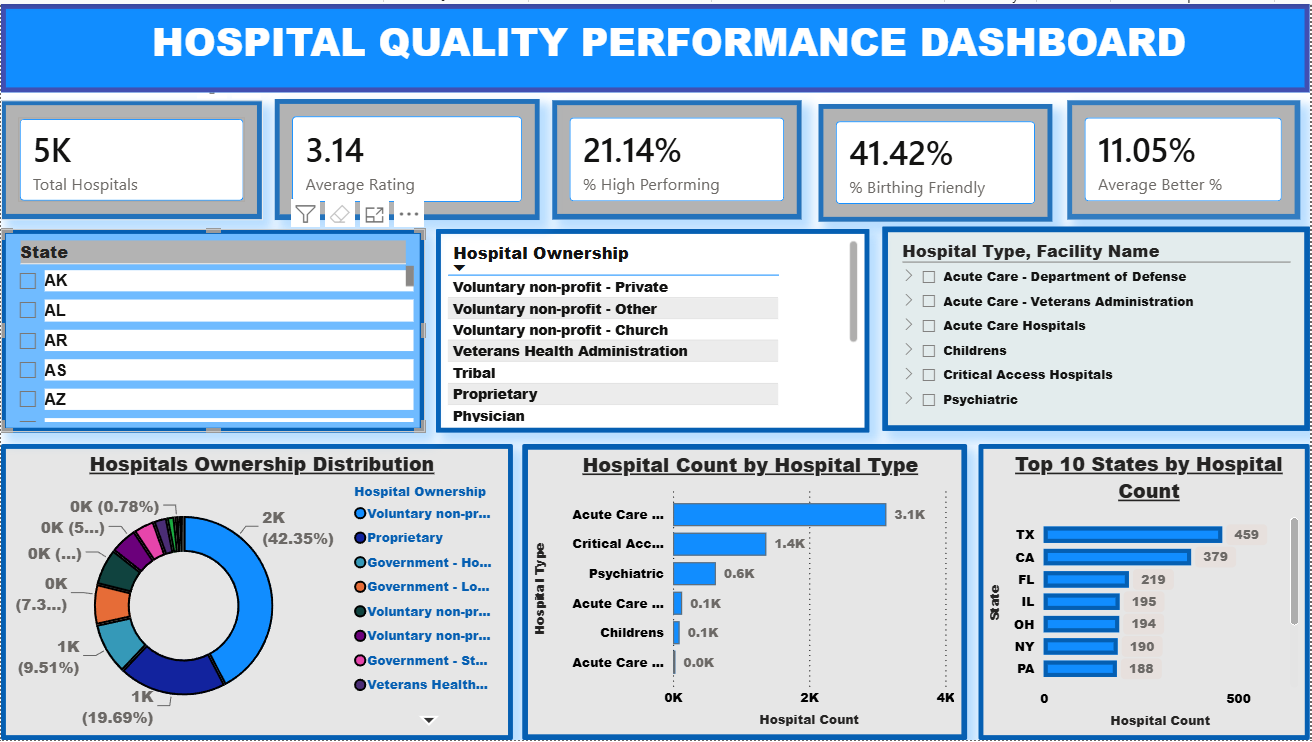

Layout of this report page (visuals, bound fields, positions):
{"tool":"powerbi","page":{"name":"Overview","canvas":[1280,720],"ordinal":0},"visuals":[{"type":"cardVisual","fields":{"Data":["Dim_County.Total Hospitals"]},"box":[0,94.7,255.2,116.6],"z":0},{"type":"cardVisual","fields":{"Data":["Dim_County.% High Performing"]},"box":[539.3,94.7,244.3,116.6],"z":1000},{"type":"cardVisual","fields":{"Data":["Dim_County.Average Better %"]},"box":[1042.9,94.7,227.8,116.6],"z":2000},{"type":"cardVisual","fields":{"Data":["Dim_County.% Birthing Friendly"]},"box":[800,97.4,229.2,115.3],"z":3000},{"type":"slicer","fields":{"Values":["Dim_State.State"]},"box":[0,219.6,414.4,199],"z":4000},{"type":"slicer","fields":{"Values":["Dim_HospitalType.Hospital Type","Hospital_General_Information.Facility Name"]},"box":[861.8,218.2,418.5,200.3],"z":5000},{"type":"tableEx","fields":{"Values":["Dim_Ownership.Hospital Ownership"]},"box":[425.4,219.6,424,199],"z":6000},{"type":"cardVisual","fields":{"Data":["Dim_County.Average Rating"]},"box":[267.6,93.3,259.3,118],"z":7000},{"type":"textbox","box":[0,0,1280.2,86],"z":8000},{"type":"textbox","box":[0,497,164,223],"z":9000},{"type":"textbox","box":[0,0,1280.2,86],"z":10000},{"type":"donutChart","title":"Hospitals Ownership Distribution","fields":{"Category":["Dim_Ownership.Hospital Ownership"],"Y":["Dim_County.Hospital Count"]},"box":[0,430.9,500.9,289.5],"z":11000},{"type":"clusteredBarChart","title":"Hospital Count  by Hospital Type","fields":{"Y":["Dim_County.Hospital Count"],"Category":["Dim_HospitalType.Hospital Type"]},"box":[510.5,430.9,435,289.5],"z":12000},{"type":"clusteredBarChart","title":"Top 10 States by Hospital Count","fields":{"Category":["Dim_State.State"],"Y":["Dim_County.Hospital Count"]},"box":[956.4,430.9,323.8,289.5],"z":13000}]}

Visuals, with their boxes in screenshot pixels (x1, y1, x2, y2), scaled from the page's 1280x720 canvas onto the 1312x742 screenshot:
cardVisual - Dim_County.Total Hospitals: x1=0 y1=98 x2=262 y2=218
cardVisual - Dim_County.% High Performing: x1=553 y1=98 x2=803 y2=218
cardVisual - Dim_County.Average Better %: x1=1069 y1=98 x2=1302 y2=218
cardVisual - Dim_County.% Birthing Friendly: x1=820 y1=100 x2=1055 y2=219
slicer - Dim_State.State: x1=0 y1=226 x2=425 y2=431
slicer - Dim_HospitalType.Hospital Type x Hospital_General_Information.Facility Name: x1=883 y1=225 x2=1311 y2=431
tableEx - Dim_Ownership.Hospital Ownership: x1=436 y1=226 x2=871 y2=431
cardVisual - Dim_County.Average Rating: x1=274 y1=96 x2=540 y2=218
textbox: x1=0 y1=0 x2=1311 y2=89
textbox: x1=0 y1=512 x2=168 y2=741
textbox: x1=0 y1=0 x2=1311 y2=89
"Hospitals Ownership Distribution" donutChart: x1=0 y1=444 x2=513 y2=741
"Hospital Count  by Hospital Type" clusteredBarChart: x1=523 y1=444 x2=969 y2=741
"Top 10 States by Hospital Count" clusteredBarChart: x1=980 y1=444 x2=1311 y2=741
